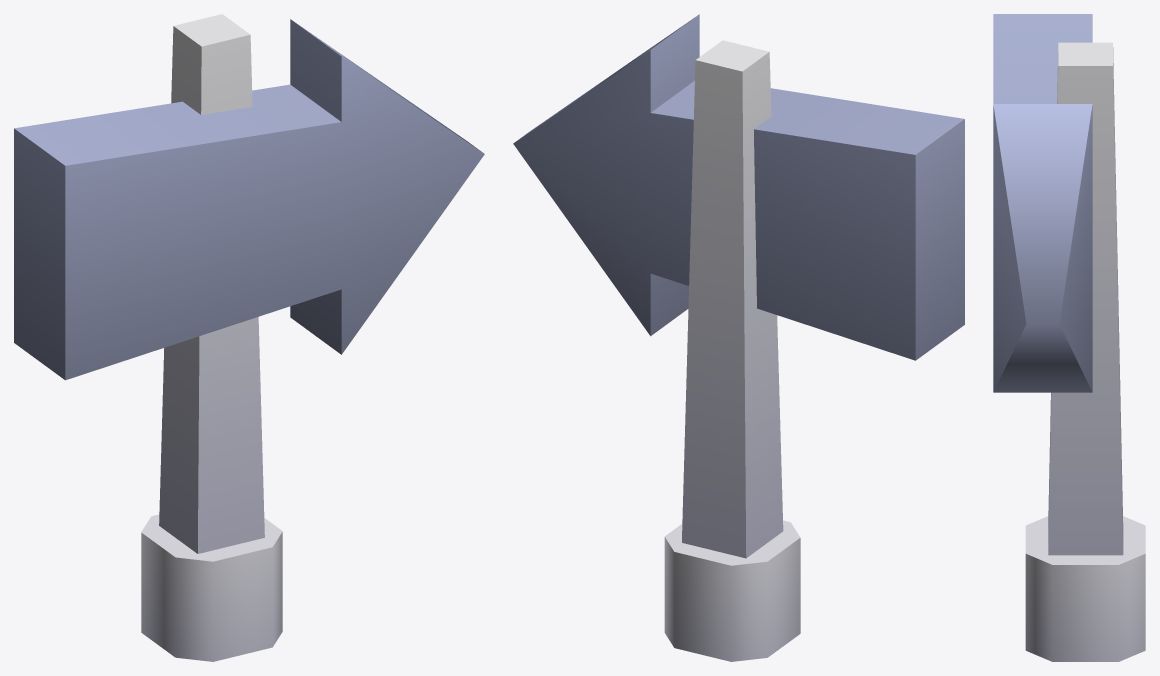
File: arrow.glb
3 views of the same model, side by side, from view 1: azimuth 30°, elevation 25°; view 2: azimuth 150°, elevation 25°; view 3: azimuth 270°, elevation 25° (orthographic). The views are drawn at different scales.
Parts seen in each view (by area): view 1: arrow; view 2: arrow; view 3: arrow.
Boxes of the visible parts, box(x1,y1,x2,y2) form: arrow: box(14, 14, 484, 661); arrow: box(513, 14, 964, 661); arrow: box(993, 14, 1145, 661).
Bounding box in the file's own units: 0.4557 × 0.6 × 0.1423.
